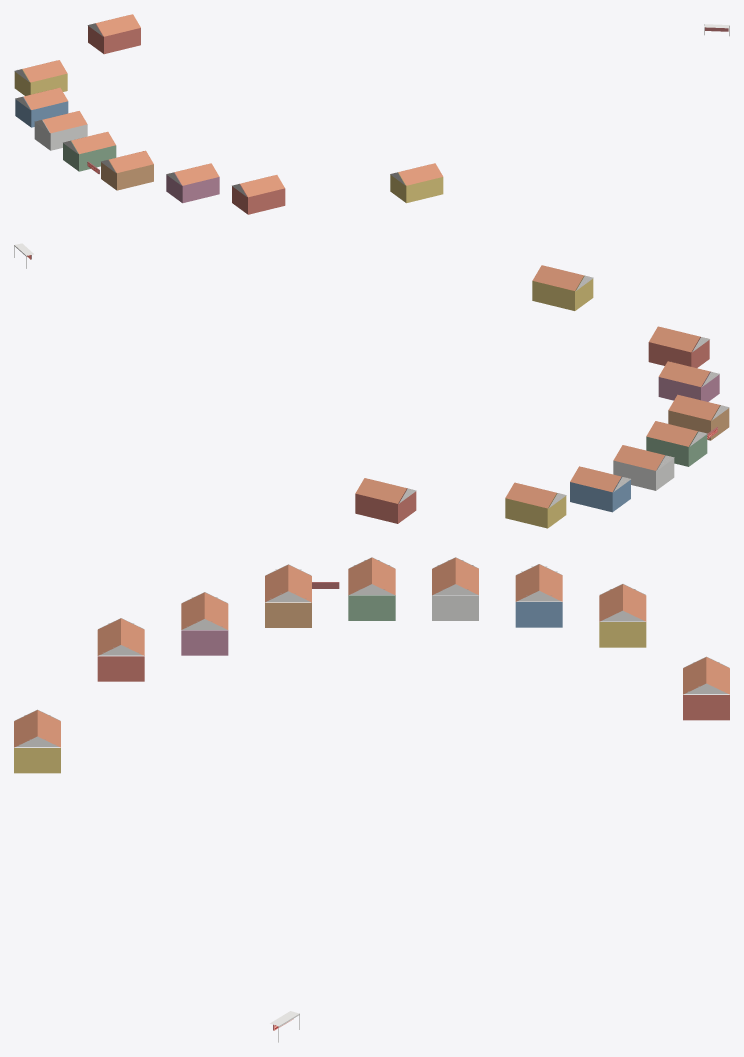
The model's file is dutchvillage.glb.
The picture shows the model from 3 angles, top to bottom: view 1: azimuth 30°, elevation 25°; view 2: azimuth 150°, elevation 25°; view 3: azimuth 270°, elevation 25°; orthographic projection. The views are drawn at different scales.
Parts seen in each view (by area): view 1: dutchvillage_lod0; view 2: dutchvillage_lod0; view 3: dutchvillage_lod0.
Boxes of the visible parts, x1,y1,x2,y2 form: dutchvillage_lod0: (14,14,729,214); dutchvillage_lod0: (14,243,729,528); dutchvillage_lod0: (14,557,729,1042).
Size of what is drawn, in the model's own units: 203 by 8.15 by 137.
11 materials, 1 textured.
